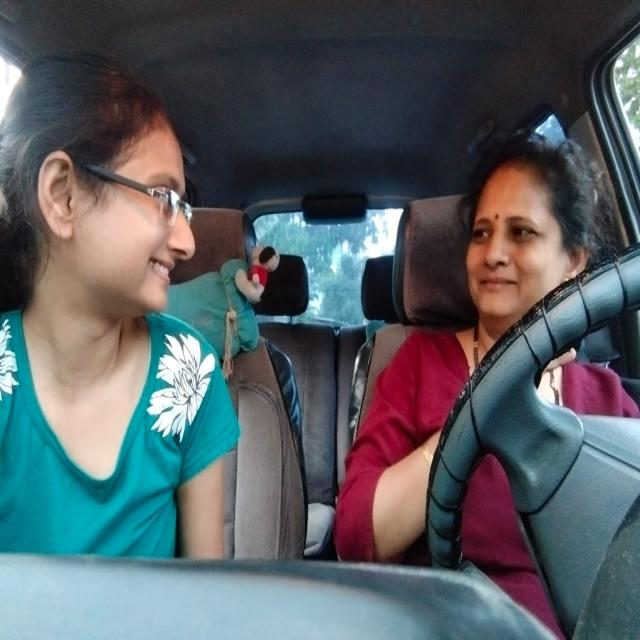LeftRight: (461, 122, 606, 348)
person: (11, 47, 198, 339)
talking: (474, 266, 523, 310), (144, 244, 178, 301)
